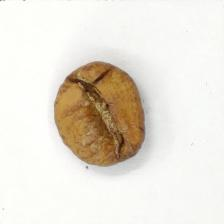NG: (67, 87, 135, 150)
